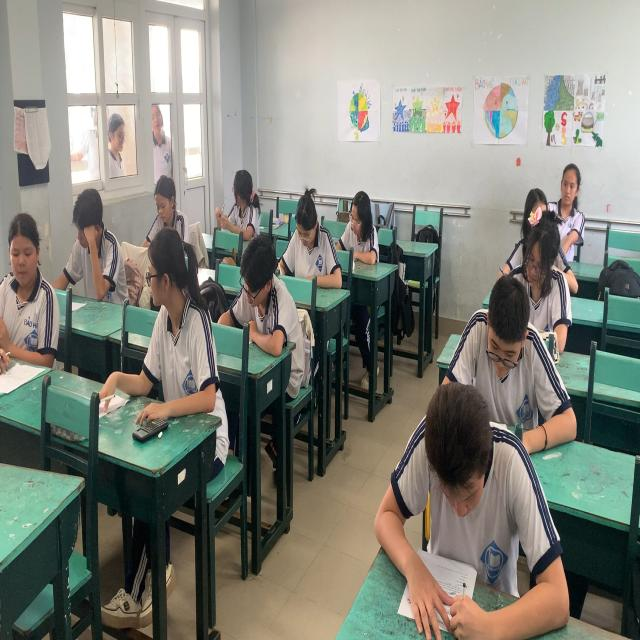cheating: (102, 224, 212, 462), (0, 191, 60, 388)
not_cheating: (350, 392, 557, 560), (444, 265, 565, 468), (210, 199, 309, 398), (56, 156, 148, 338), (500, 151, 577, 327), (267, 155, 353, 308), (328, 140, 413, 290), (122, 146, 208, 290), (207, 140, 288, 280), (548, 120, 588, 300)
